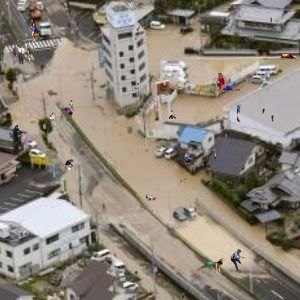Human: (9, 44, 33, 65), (237, 104, 265, 122), (213, 73, 240, 91), (184, 152, 216, 167), (195, 259, 223, 276), (230, 249, 246, 274), (33, 112, 63, 125), (271, 110, 293, 122), (30, 18, 40, 42), (64, 100, 74, 121), (9, 125, 20, 142), (180, 178, 201, 184), (134, 83, 142, 97), (65, 159, 74, 170), (145, 194, 157, 201), (280, 54, 296, 59), (169, 110, 176, 119), (269, 15, 272, 23), (182, 292, 185, 299), (137, 25, 140, 31), (276, 159, 280, 163), (262, 207, 264, 212), (41, 9, 45, 10), (132, 87, 133, 91), (120, 27, 122, 29)
